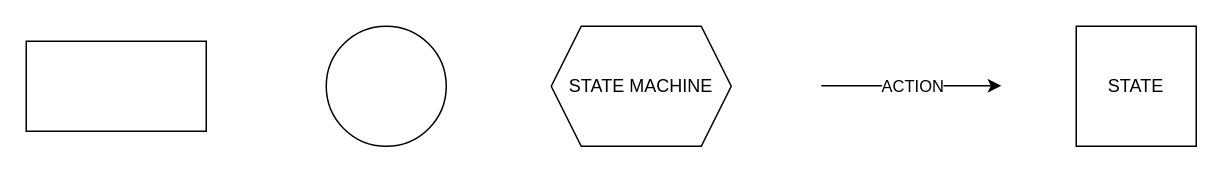
The diagram is 1223 pixels wide and 173 high, and some of its shapes have lost their labels. The shapes that lost their labels are listed below. From the top down, each one's centre as x and y in pixels, then its label:
pixel 115 85: ROUTE
pixel 385 85: PATH
